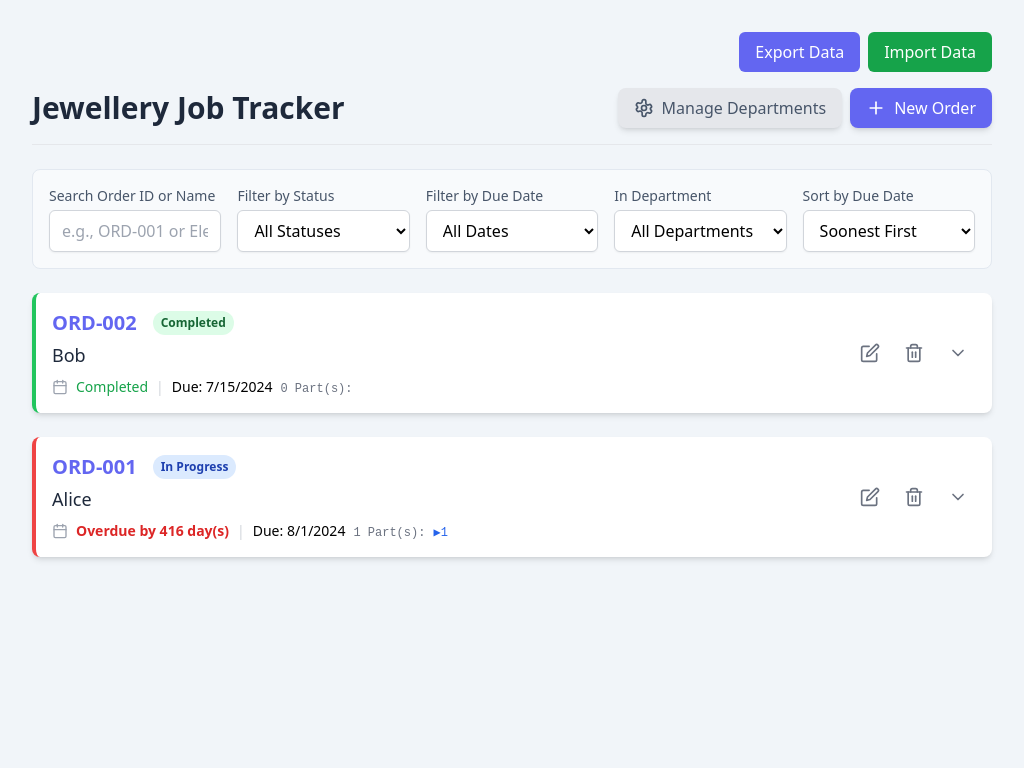
Test case: Dashboard › filters orders by search term
Type "Alice" into the field labelled "Search Order ID or Name" at (135, 231), box [49, 210, 221, 252]
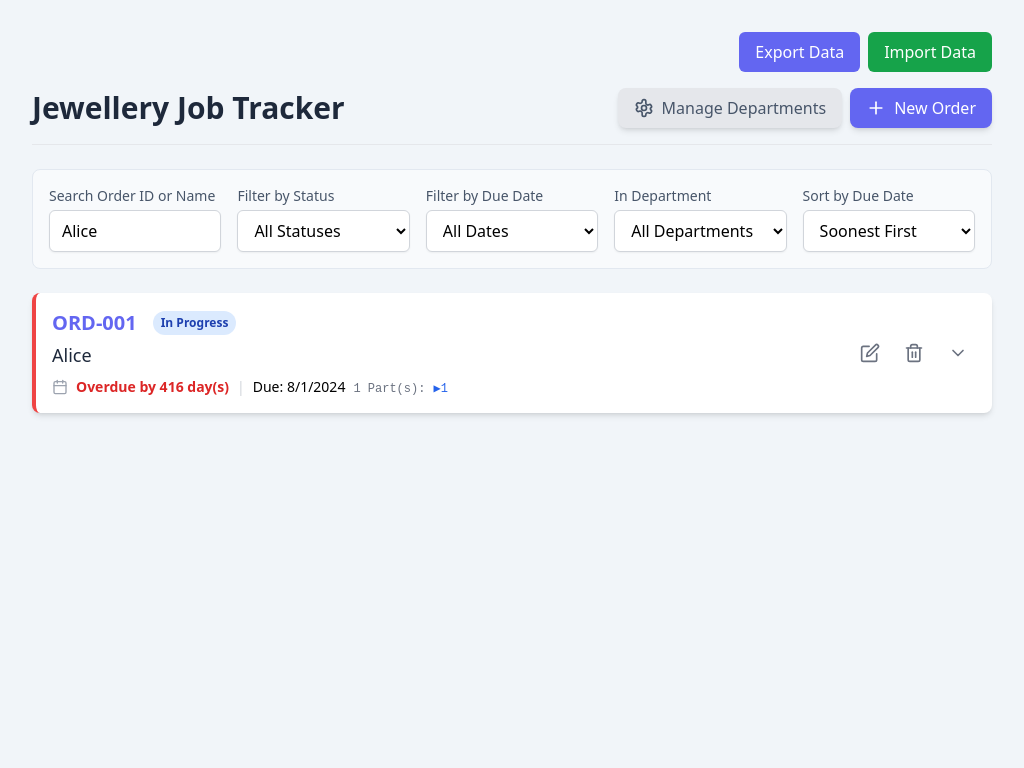
Expected: the heading "ORD-001" is shown, [52, 309, 137, 337]
Now the heading "ORD-002" is gone
